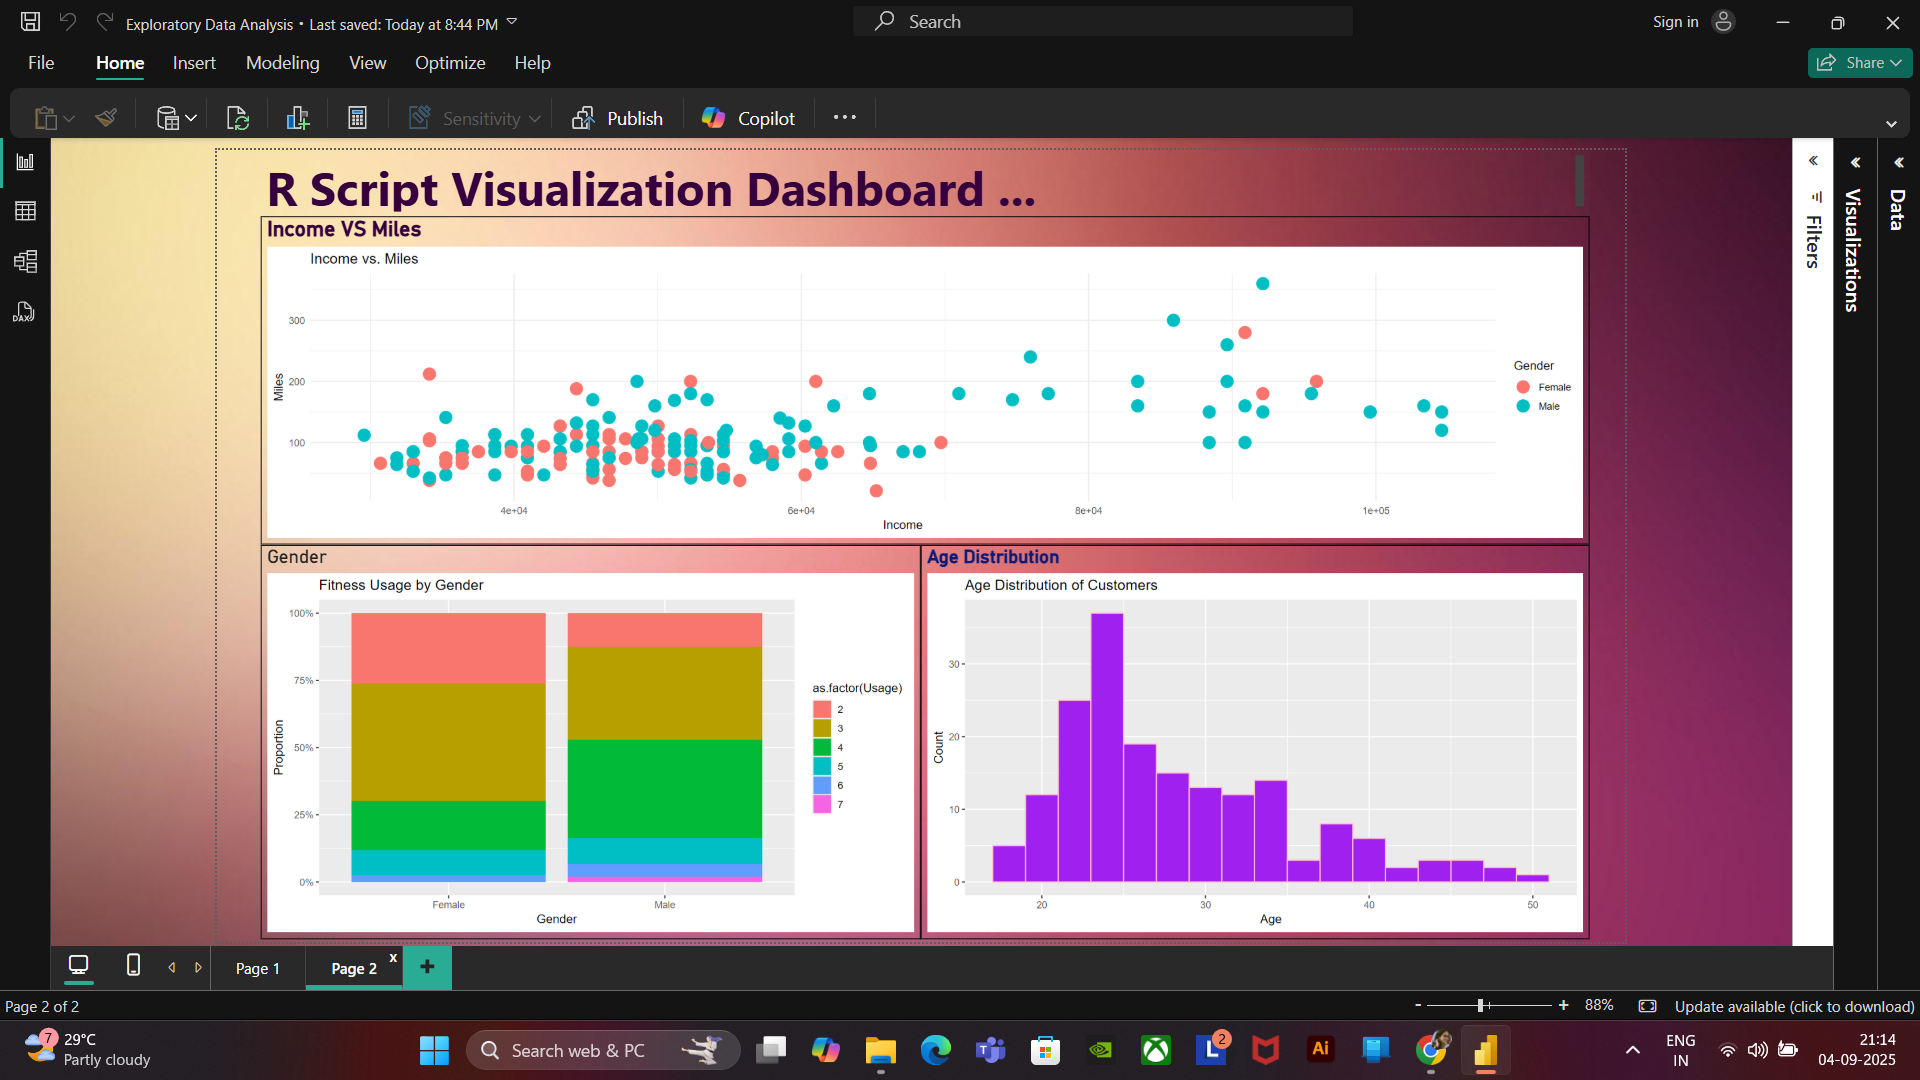

What the dashboard file says about the page in this screenshot:
{"tool":"powerbi","page":{"name":"Page 2","canvas":[1280,720],"ordinal":1},"visuals":[{"type":"scriptVisual","title":"Age Distribution","fields":{"Values":["Sum(cleaned_CardioGoodFitness.Age)"]},"box":[639.5,359.5,607.9,358.1],"z":0},{"type":"scriptVisual","fields":{"Values":["cleaned_CardioGoodFitness.Gender"]},"box":[39.6,359.5,600,358.2],"z":1000},{"type":"scriptVisual","title":"Income VS Miles","fields":{"Values":["Sum(cleaned_CardioGoodFitness.Income)"]},"box":[39.6,60.8,1207.9,298.7],"z":2000},{"type":"textbox","box":[39.8,0,1207.9,61],"z":3000}]}

Visuals, with their boxes on the page's 1280x720 design canvas (x1, y1, x2, y2). These are canvas units, not pixel positions in the 1920x1080 screenshot, which may show the page scaled, cropped or inside an application window:
"Age Distribution" scriptVisual: x1=640, y1=360, x2=1247, y2=718
scriptVisual - cleaned_CardioGoodFitness.Gender: x1=40, y1=360, x2=640, y2=718
"Income VS Miles" scriptVisual: x1=40, y1=61, x2=1248, y2=360
textbox: x1=40, y1=0, x2=1248, y2=61
